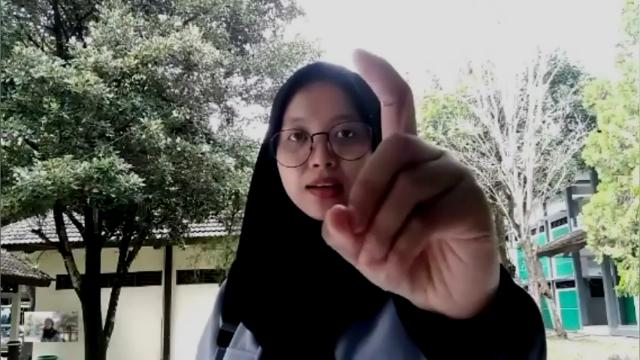X: (317, 46, 505, 304)
